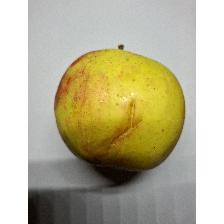Apfel: (51, 41, 189, 177)
